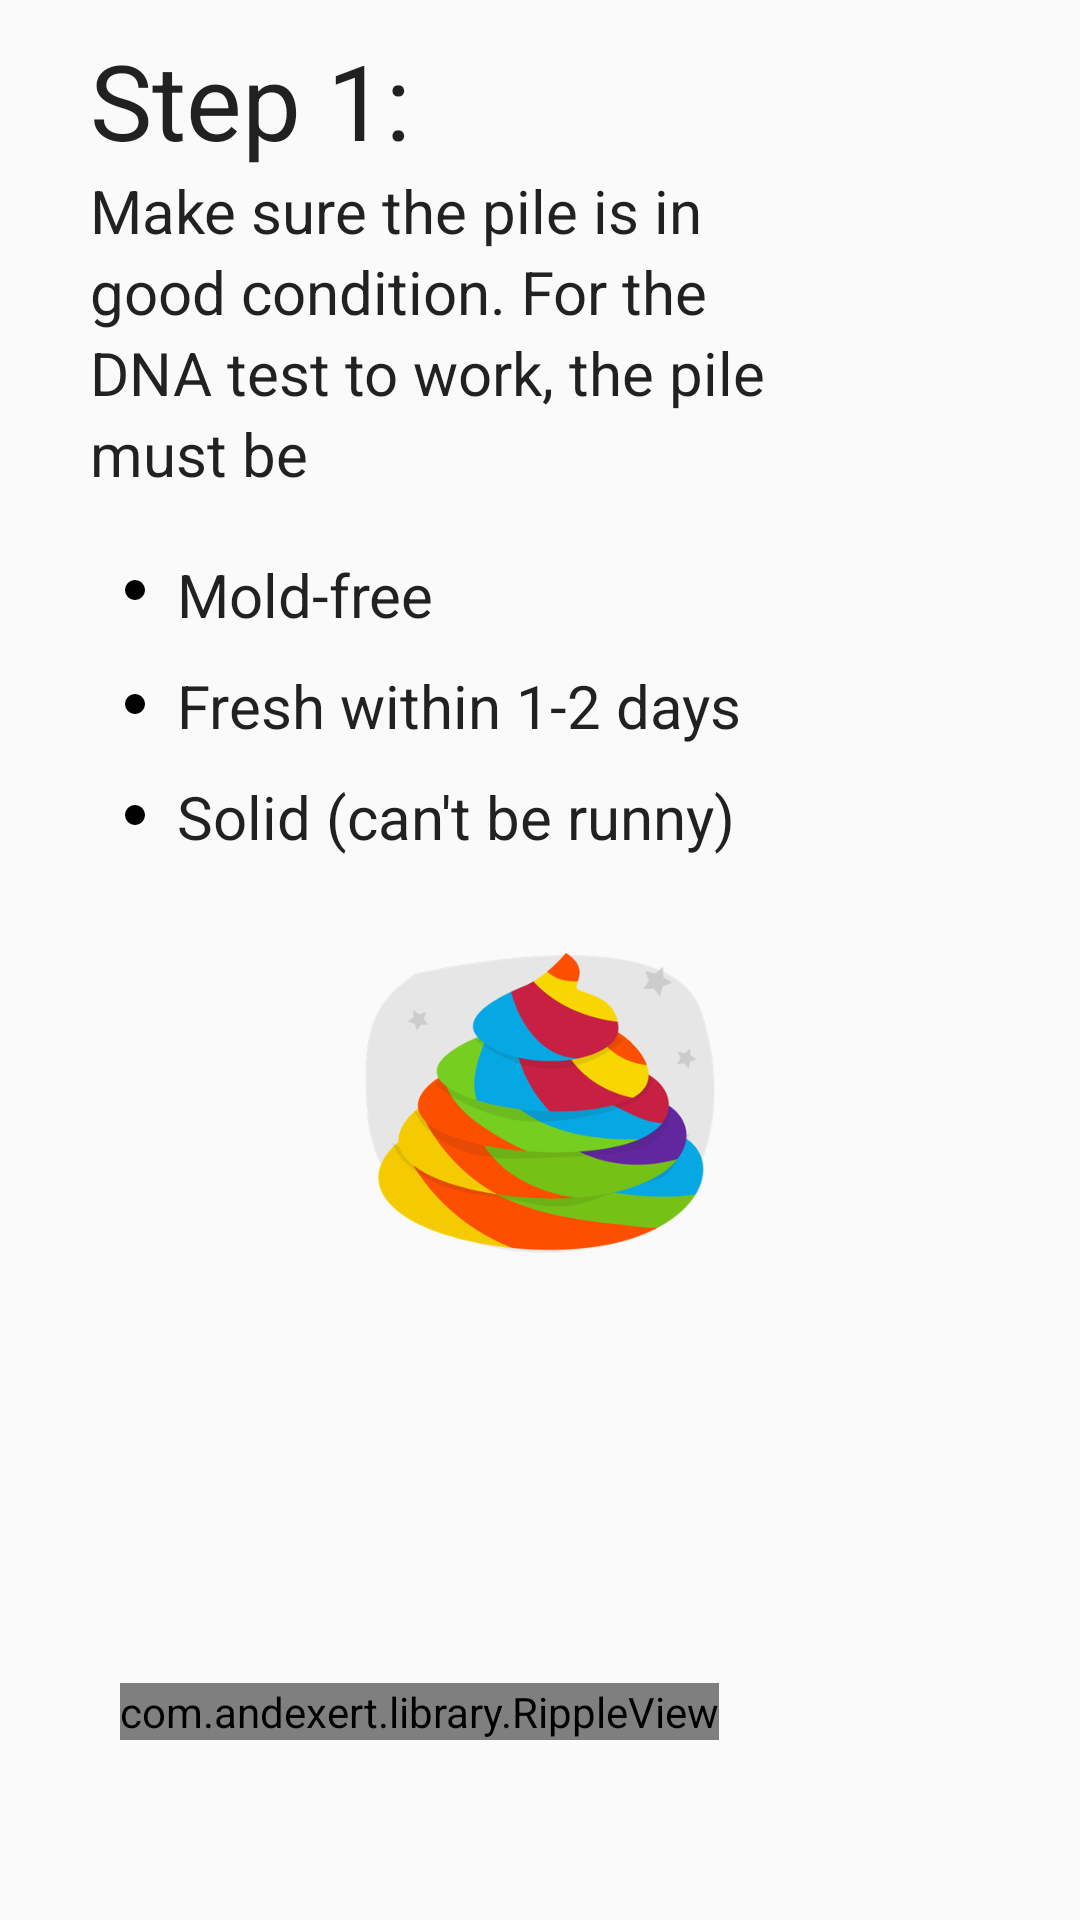

Locate icon controls on the screen. Image size 1080x1920, boxes as (x1, y1, x2, y2).
sparkling poo: (378, 953, 704, 1251)
